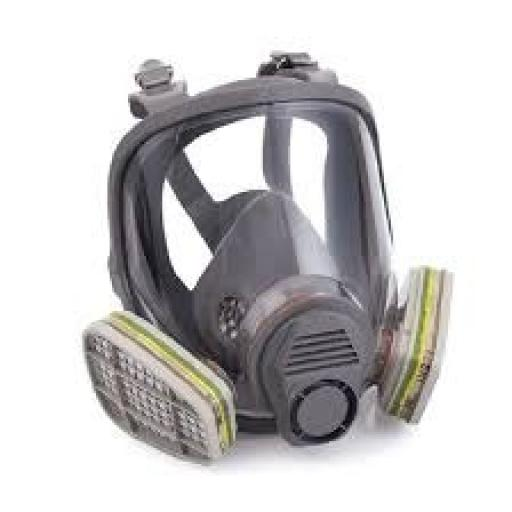mask: (80, 79, 462, 492)
